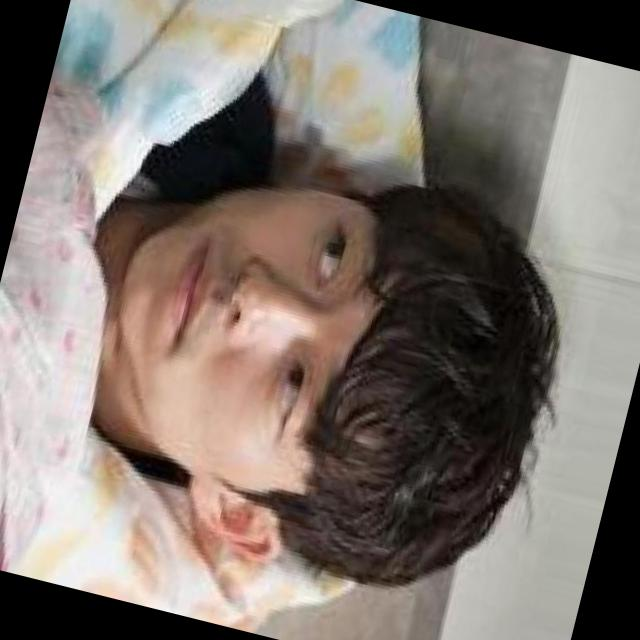bareface: (99, 140, 570, 598)
